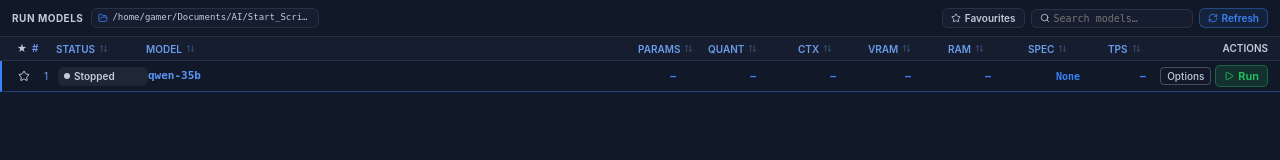
Test: T235 script-declared launch options › clicking Options button shows the options panel
Check: the text "qwen-35b" is shown, box 148,69 -> 201,82
Click the button "Options" at [1186, 76], box 1160,67 -> 1211,85
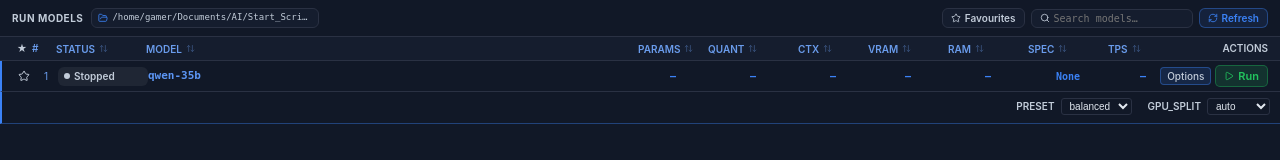
Check: the element with test id "run-models-options-panel" is shown, box 0,91 -> 1279,124
